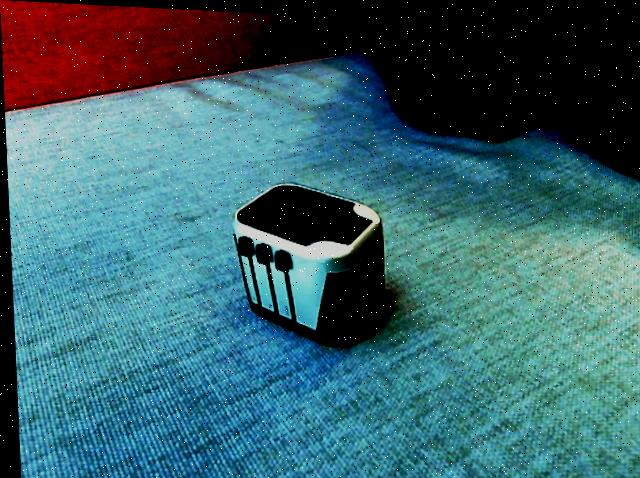adapter: (227, 177, 386, 345)
